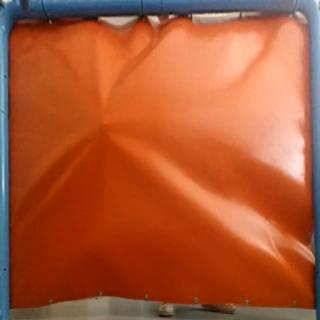Hit-hRxx: (94, 115, 116, 134)
